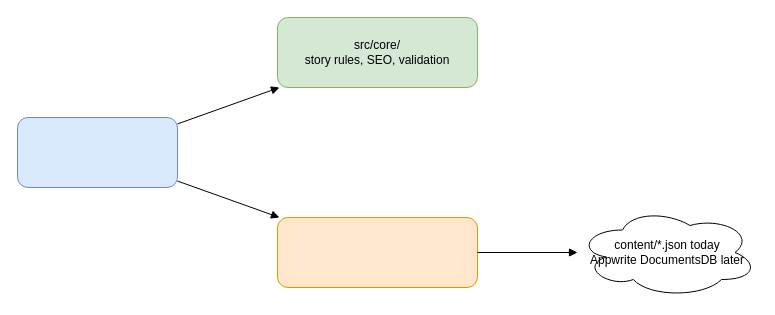
The diagram is 775 pixels wide and 315 high, and some of its shapes have lost their labels. Each missing label, with the box of its shape:
Astro pages + site-data.ts check-stories script: (16, 116, 178, 188)
src/adapters/ json-files.ts (Appwrite later): (276, 216, 478, 288)
